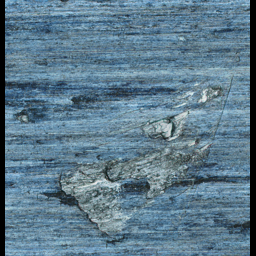d: (42, 79, 224, 246), (13, 106, 41, 124)
